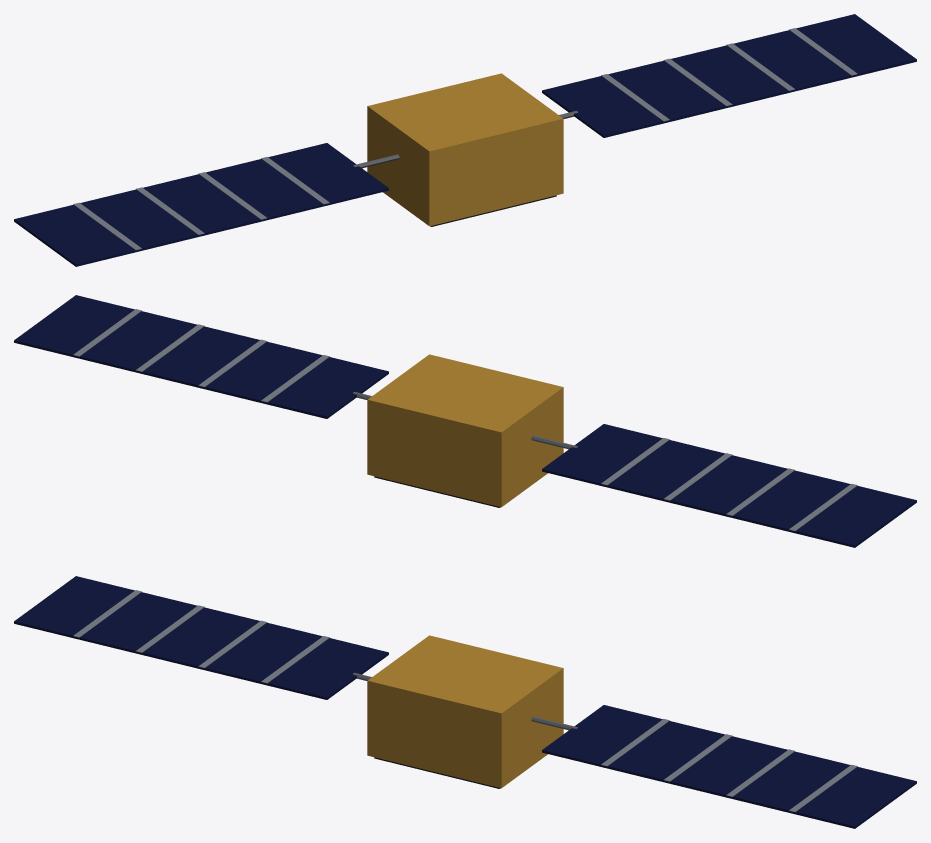
Rendered from globalstar.glb.
The picture shows the model from 3 angles, top to bottom: view 1: azimuth 30°, elevation 25°; view 2: azimuth 150°, elevation 25°; view 3: azimuth 330°, elevation 25°; orthographic projection.
Visible parts, largest first — view 1: globalstar; view 2: globalstar; view 3: globalstar.
Part boxes in pixels (box(x1,y1,x2,y2)): globalstar: box(14, 14, 916, 266); globalstar: box(14, 295, 916, 547); globalstar: box(14, 576, 916, 828).
Size of the model in its own units: 9.4 by 0.875 by 1.21.
